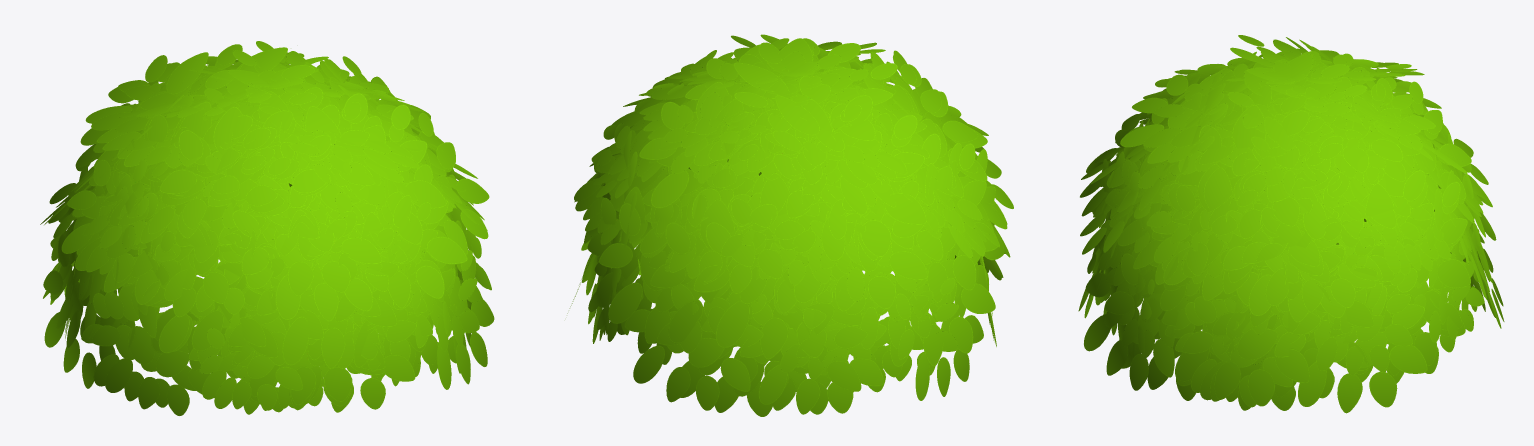
The model's file is Bush.glb.
The picture shows the model from 3 angles, left to right: view 1: azimuth 30°, elevation 25°; view 2: azimuth 150°, elevation 25°; view 3: azimuth 270°, elevation 25°; orthographic projection. The views are drawn at different scales.
Parts seen in each view (by area): view 1: Bush; view 2: Bush; view 3: Bush.
Part boxes in pixels (x1=…): Bush: x1=40, y1=41, x2=494, y2=415; Bush: x1=567, y1=34, x2=1013, y2=416; Bush: x1=1078, y1=35, x2=1504, y2=413.
Bounding box in the file's own units: 1.09 × 0.6916 × 1.05.
1 material, 1 textured.
